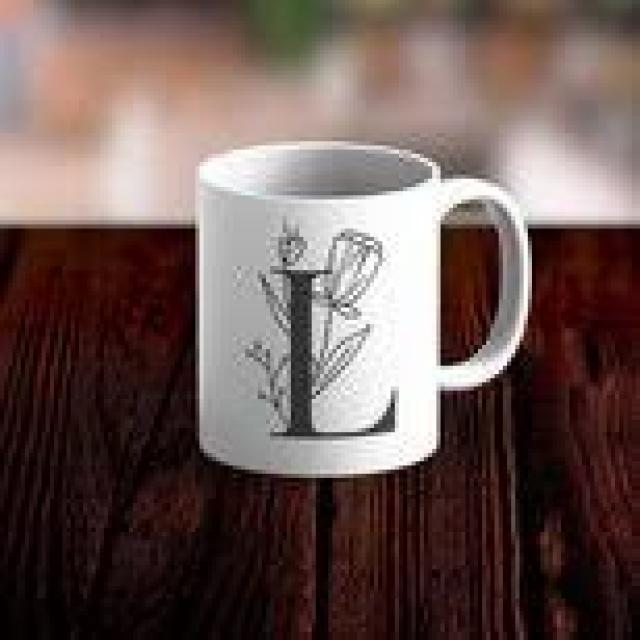taza: (197, 140, 531, 478)
